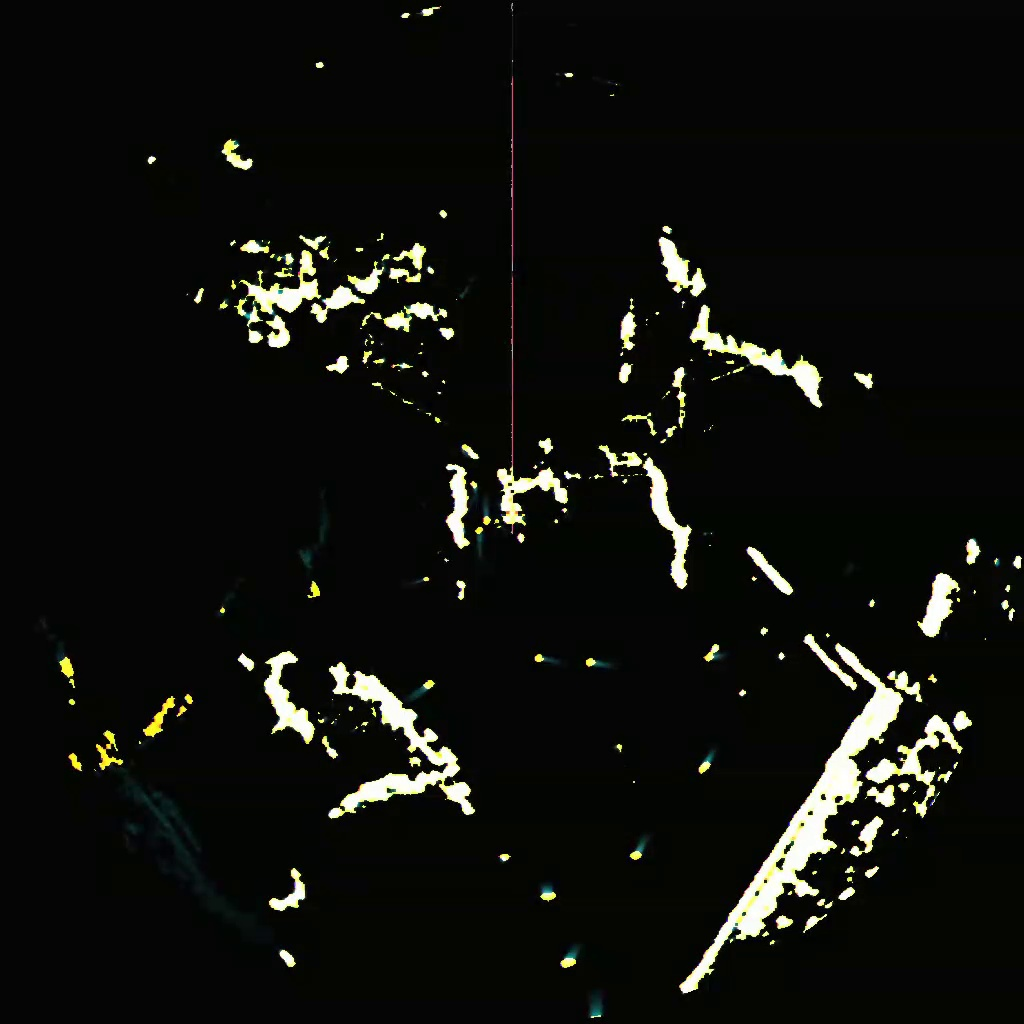B: (407, 677, 438, 699), (556, 944, 581, 969), (695, 745, 715, 774), (585, 988, 605, 1016), (627, 836, 649, 858), (583, 655, 611, 672), (537, 881, 557, 904), (534, 650, 559, 666), (703, 649, 726, 663), (480, 499, 491, 526), (474, 524, 482, 546)
